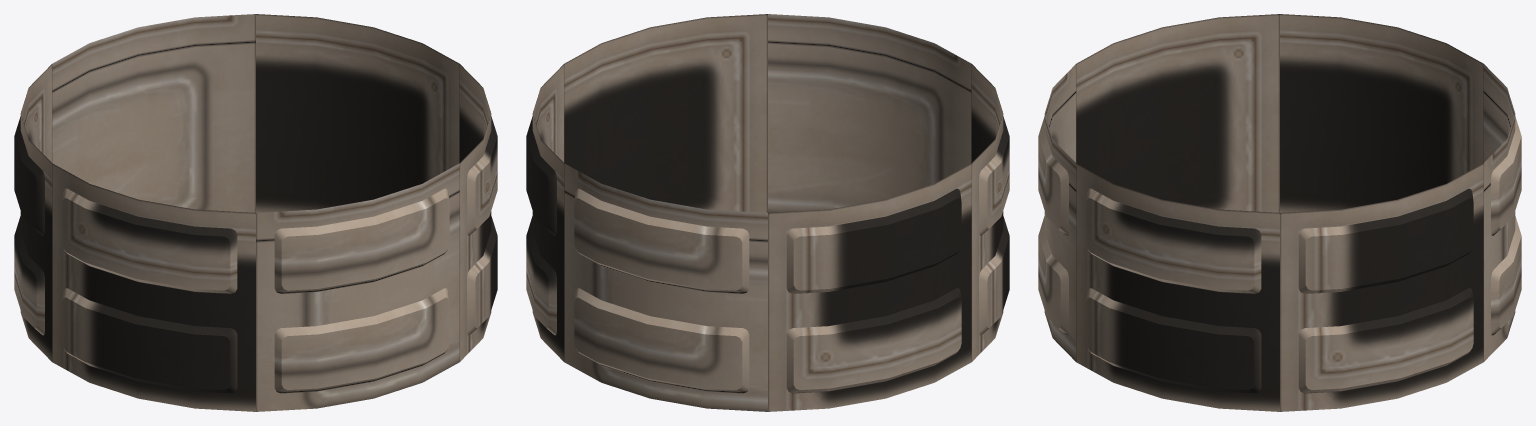
The model's file is cygnus_fuselage_s1p5_2.obj.
3 renders of one model, left to right at view 1: azimuth 30°, elevation 25°; view 2: azimuth 150°, elevation 25°; view 3: azimuth 270°, elevation 25°, orthographic.
Visible parts, largest first — view 1: mesh1; view 2: mesh1; view 3: mesh1.
Boxes of the visible parts, box(x1,y1,x2,y2) form: mesh1: box(14, 14, 497, 411); mesh1: box(526, 14, 1009, 411); mesh1: box(1038, 14, 1521, 411).
Bounding box in the file's own units: 1.9 × 0.875 × 1.93.
Materials: 1 (1 with a texture image).
